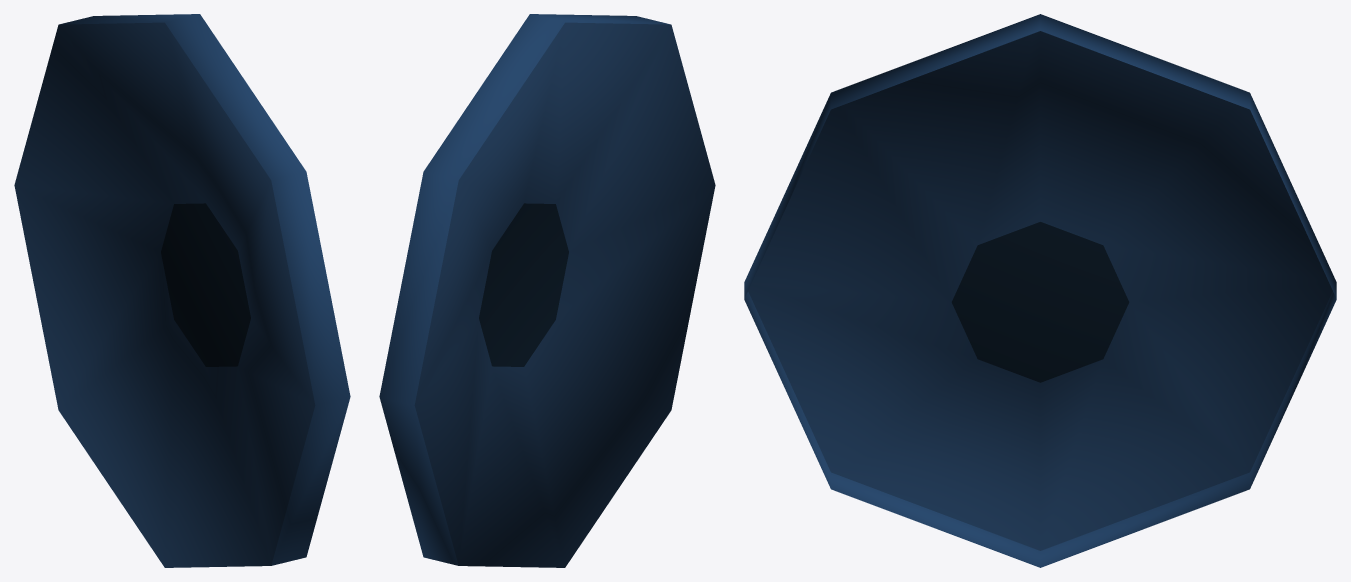
File: Speaker_Mini.fbx
3 renders of one model, left to right at view 1: azimuth 30°, elevation 25°; view 2: azimuth 150°, elevation 25°; view 3: azimuth 270°, elevation 25°, orthographic.
Parts seen in each view (by area): view 1: Circle.007; view 2: Circle.007; view 3: Circle.007.
Part boxes in pixels (x1,y1,x2,y2): Circle.007: [14, 14, 350, 567]; Circle.007: [379, 14, 715, 567]; Circle.007: [744, 14, 1336, 567].
Bounding box in the file's own units: 6.31 × 80 × 80.
